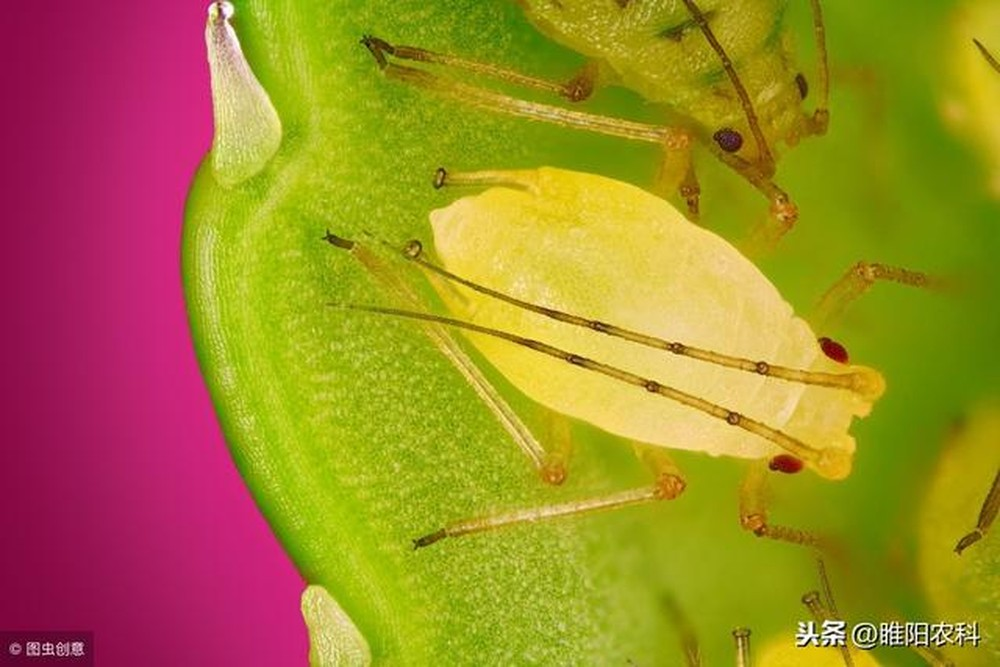Pulgon: (362, 145, 958, 597), (350, 1, 899, 211)
